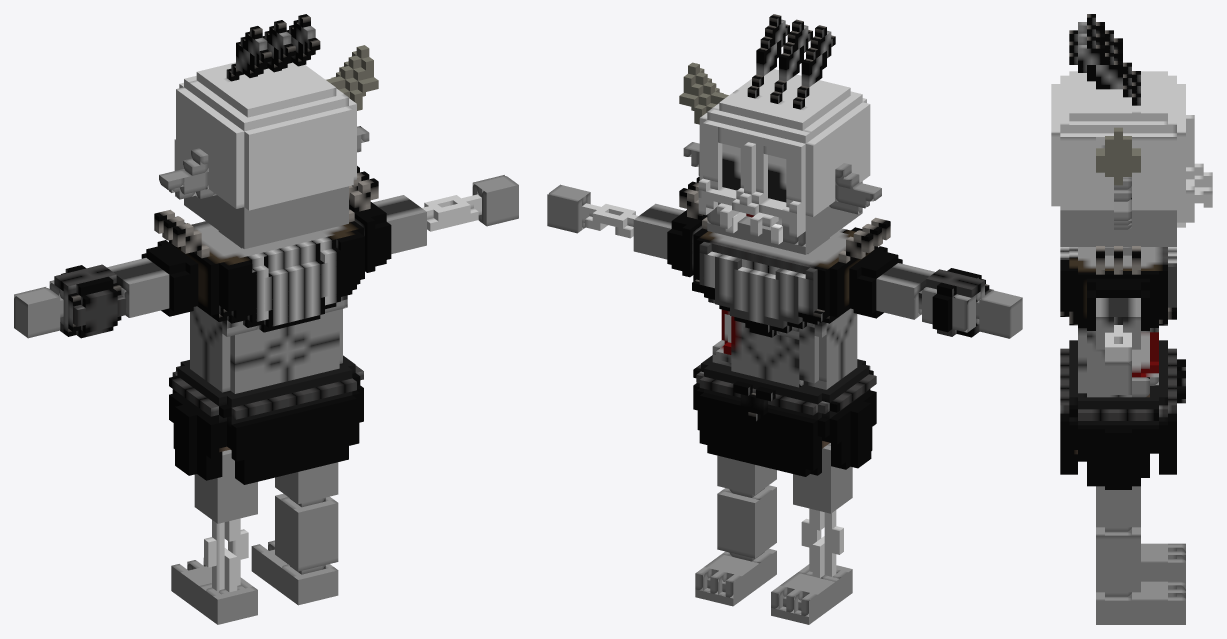
The model's file is Goblins shaman zombie.obj.
3 views of the same model, side by side, from view 1: azimuth 30°, elevation 25°; view 2: azimuth 150°, elevation 25°; view 3: azimuth 270°, elevation 25° (orthographic). The views are drawn at different scales.
Visible parts, largest first — view 1: Model; view 2: Model; view 3: Model.
Boxes of the visible parts, x1,y1,x2,y2 form: Model: (14, 14, 518, 624); Model: (547, 14, 1022, 624); Model: (1051, 14, 1212, 624).
Size of the model in its own units: 27.89 by 32 by 8.23.
Materials: 1 (1 with a texture image).
